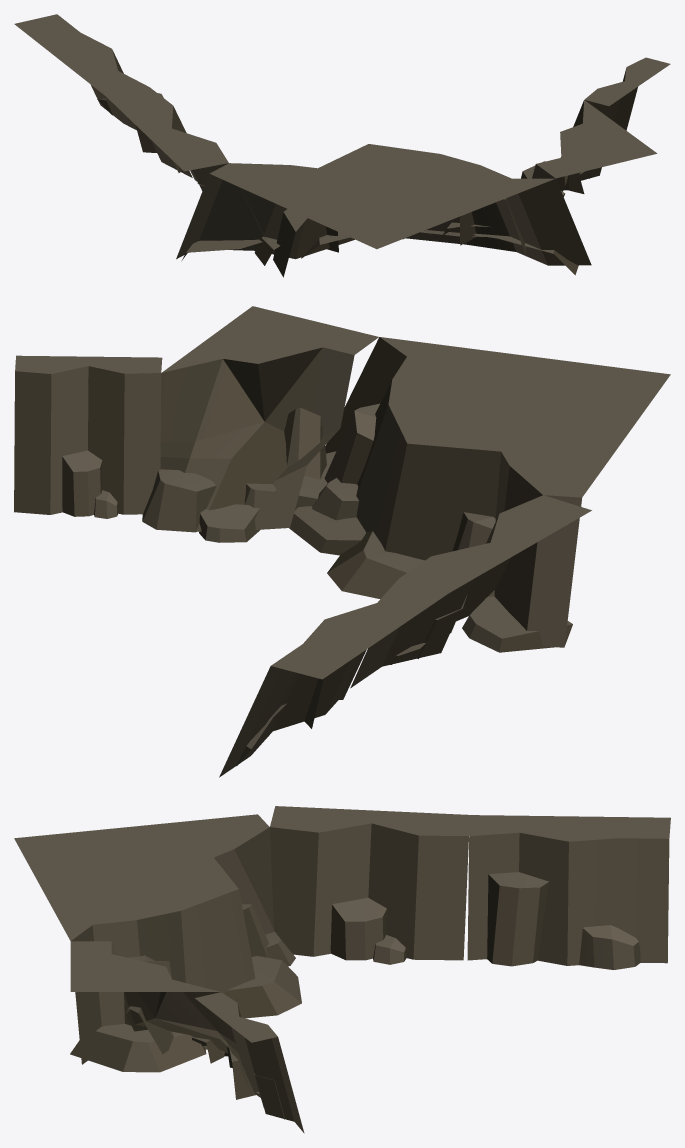
Rendered from Mountain29.fbx.
3 views of the same model, one above another, from view 1: azimuth 30°, elevation 25°; view 2: azimuth 150°, elevation 25°; view 3: azimuth 270°, elevation 25° (orthographic). The views are drawn at different scales.
Visible parts, largest first — view 1: Mountain29; view 2: Mountain29; view 3: Mountain29.
Part boxes in pixels (x1,y1,x2,y2): Mountain29: (14, 14, 670, 277); Mountain29: (14, 306, 670, 777); Mountain29: (14, 806, 670, 1133).
Size of the model in its own units: 140 by 30.54 by 164.
